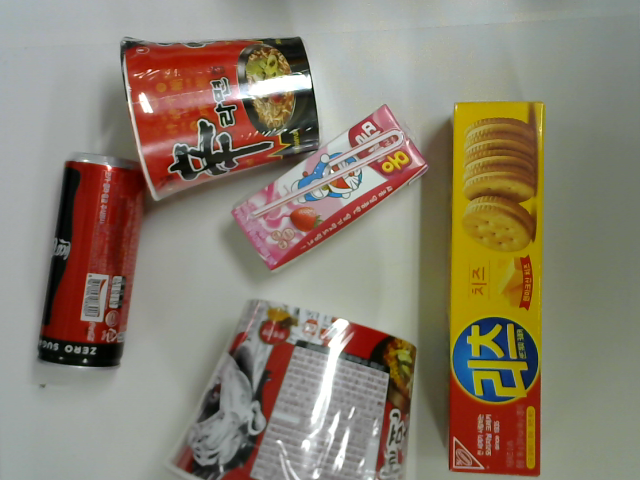Coca_Cola_Zero_Can_250ml: (33, 153, 148, 372)
Hejangpul: (164, 302, 418, 480)
Ritz_Sand_Cracker: (447, 99, 553, 474)
Sinramen_small: (112, 29, 324, 203)
Strawberry_E_Mong: (228, 100, 432, 273)
